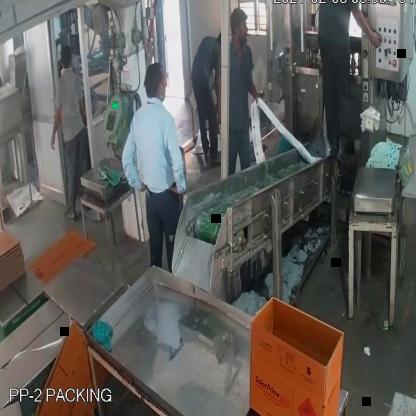no_glove: (163, 112, 190, 204), (118, 118, 148, 200), (347, 0, 388, 53), (41, 93, 66, 156), (210, 61, 230, 136), (243, 58, 265, 118)
